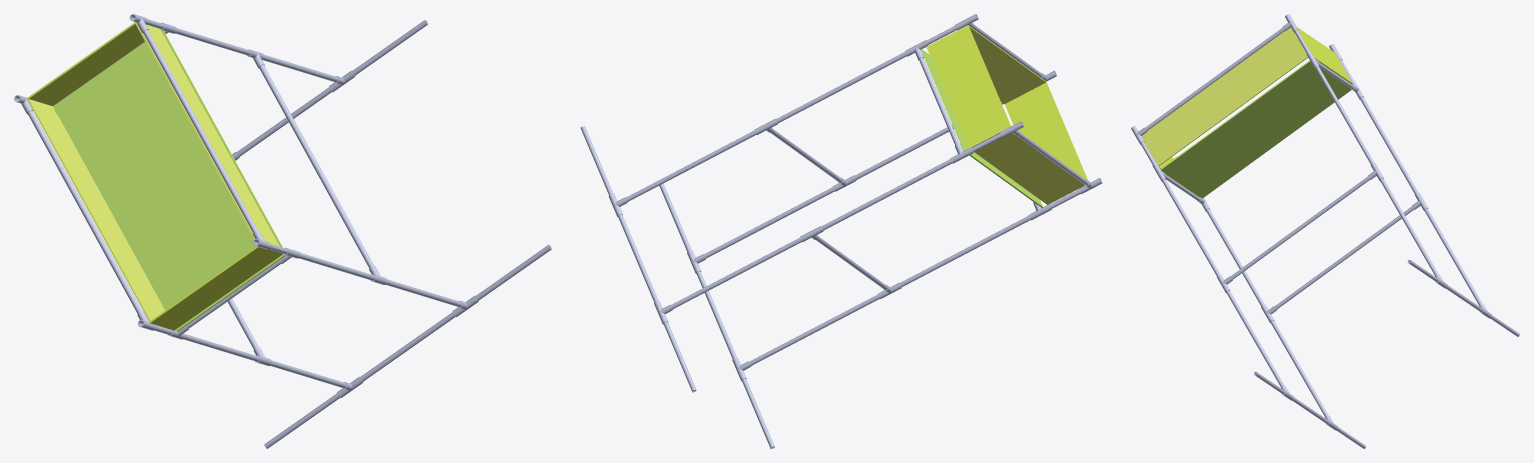
Rendered from coffin.obj.
3 renders of one model, left to right at view 1: azimuth 30°, elevation 25°; view 2: azimuth 150°, elevation 25°; view 3: azimuth 270°, elevation 25°, orthographic. The views are drawn at different scales.
Parts seen in each view (by area): view 1: Bryła41, Bryła42, Bryła43, Bryła44, Bryła45, Bryła8, Bryła12, Bryła16, Bryła36, Bryła35, Bryła38, Bryła40 (+2 smaller); view 2: Bryła45, Bryła42, Bryła44, Bryła43, Bryła41, Bryła27, Bryła19, Bryła15, Bryła30, Bryła20, Bryła28, Bryła29 (+2 smaller); view 3: Bryła41, Bryła43, Bryła45, Bryła16, Bryła8, Bryła23, Bryła30, Bryła14, Bryła29, Bryła20, Bryła27, Bryła28 (+2 smaller).
Boxes of the visible parts, bbox=[...] form: Bryła41: bbox=[53, 30, 285, 331]; Bryła42: bbox=[26, 97, 174, 330]; Bryła43: bbox=[135, 22, 282, 254]; Bryła44: bbox=[151, 246, 281, 329]; Bryła45: bbox=[28, 22, 144, 106]; Bryła8: bbox=[143, 29, 257, 232]; Bryła12: bbox=[27, 110, 142, 313]; Bryła16: bbox=[259, 65, 373, 268]; Bryła36: bbox=[359, 312, 455, 381]; Bryła35: bbox=[236, 87, 331, 156]; Bryła38: bbox=[475, 244, 551, 300]; Bryła40: bbox=[351, 20, 428, 75]; Bryła45: bbox=[927, 26, 1010, 146]; Bryła42: bbox=[969, 125, 1084, 204]; Bryła44: bbox=[1004, 82, 1087, 180]; Bryła43: bbox=[926, 25, 1046, 103]; Bryła41: bbox=[921, 49, 1042, 207]; Bryła27: bbox=[703, 187, 834, 258]; Bryła19: bbox=[899, 216, 1030, 287]; Bryła15: bbox=[775, 52, 906, 123]; Bryła30: bbox=[625, 131, 756, 201]; Bryła20: bbox=[821, 159, 951, 230]; Bryła28: bbox=[749, 294, 879, 365]; Bryła29: bbox=[670, 238, 801, 309]; Bryła41: bbox=[1160, 60, 1351, 198]; Bryła43: bbox=[1141, 27, 1307, 165]; Bryła45: bbox=[1297, 27, 1351, 83]; Bryła16: bbox=[1230, 176, 1369, 279]; Bryła8: bbox=[1144, 28, 1284, 130]; Bryła23: bbox=[1274, 206, 1413, 309]; Bryła30: bbox=[1380, 178, 1438, 275]; Bryła14: bbox=[1162, 179, 1220, 275]; Bryła29: bbox=[1424, 208, 1482, 305]; Bryła20: bbox=[1360, 97, 1418, 193]; Bryła27: bbox=[1226, 290, 1284, 387]; Bryła28: bbox=[1270, 320, 1328, 417].
Bounding box in the file's own units: 1249 × 1282 × 1222.
